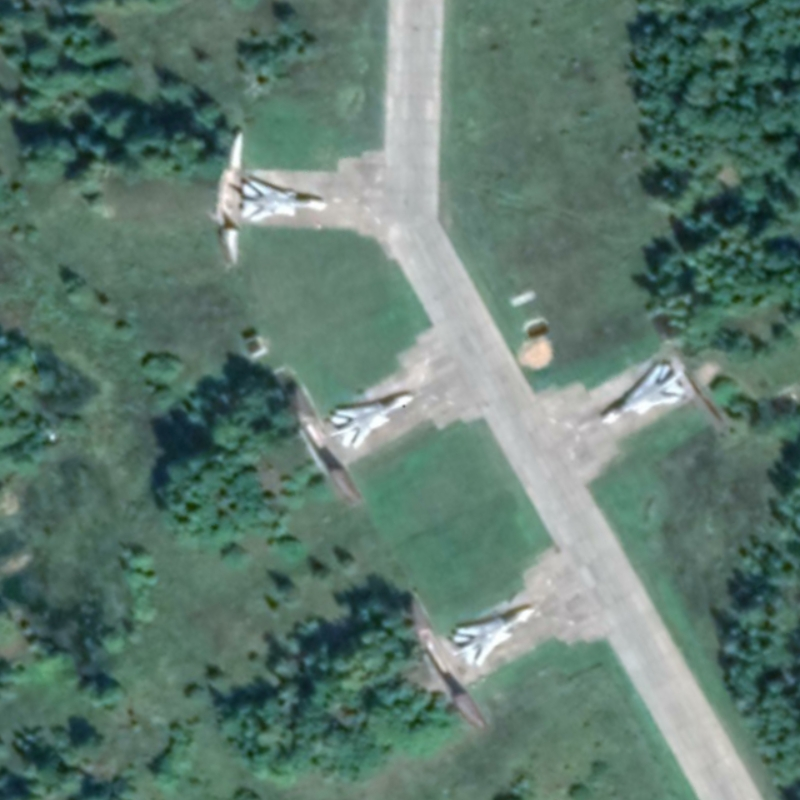A20: (600, 362, 689, 426), (451, 605, 537, 669), (327, 392, 415, 450), (239, 178, 329, 225)
